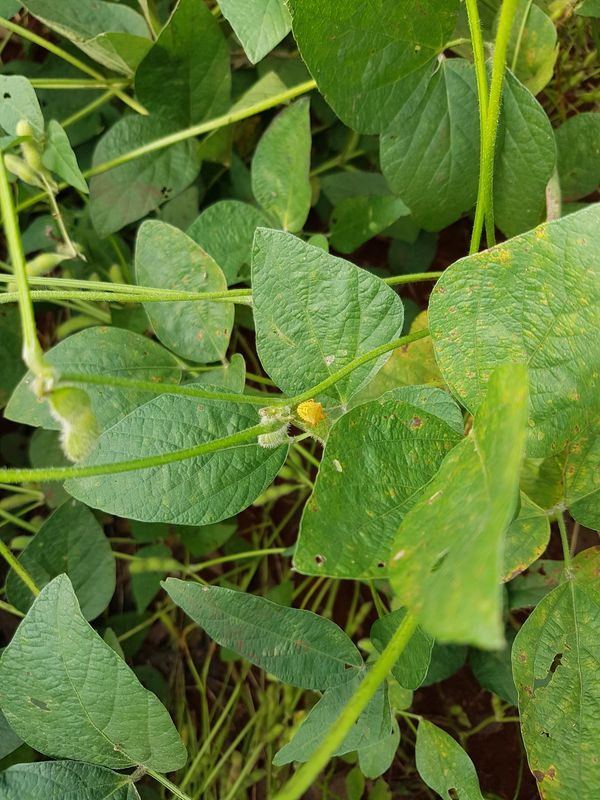Euschistus_heros_ninfa: (290, 394, 331, 432)
